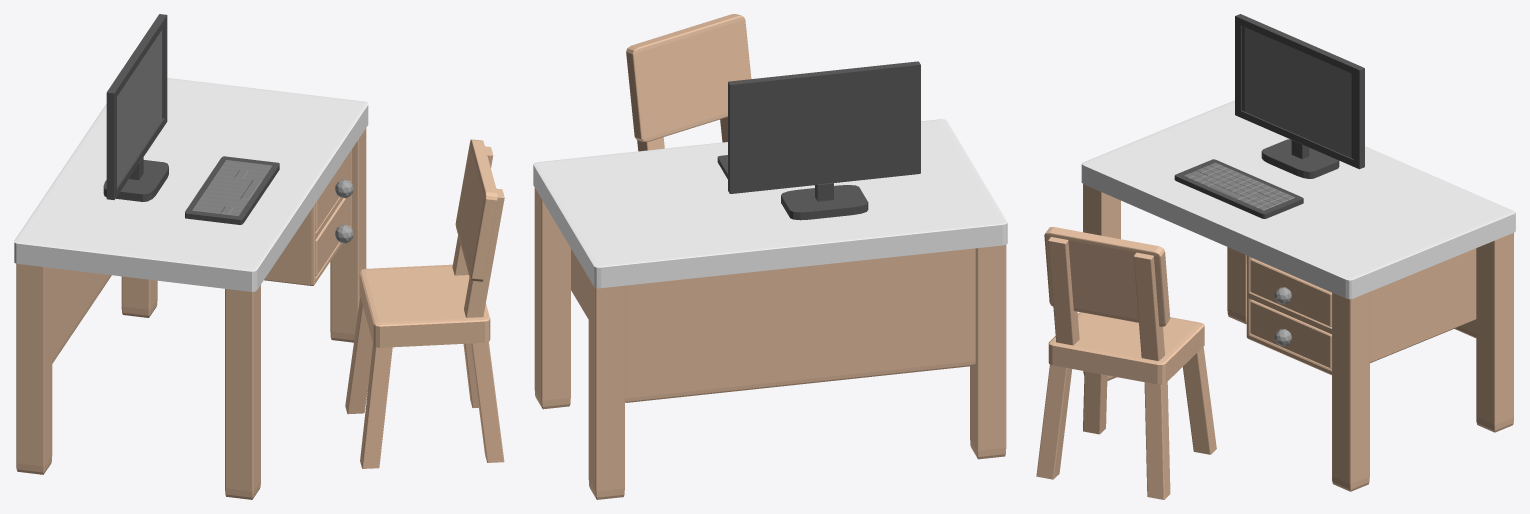
Rendered from setup.glb.
3 views of the same model, side by side, from view 1: azimuth 30°, elevation 25°; view 2: azimuth 150°, elevation 25°; view 3: azimuth 270°, elevation 25° (orthographic). The views are drawn at different scales.
Visible parts, largest first — view 1: setup; view 2: setup; view 3: setup.
Boxes of the visible parts, bbox=[...] form: setup: bbox=[14, 14, 504, 499]; setup: bbox=[533, 14, 1007, 499]; setup: bbox=[1036, 14, 1515, 499].
Size of the model in its own units: 1.22 by 0.988 by 1.28.
